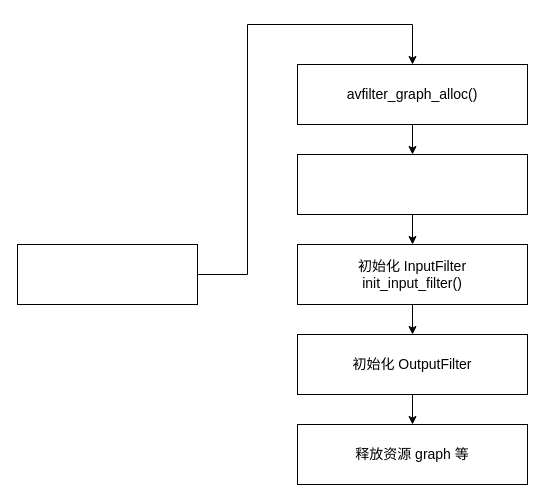
The diagram is 545 pixels wide and 502 high, and some of its shapes have lost their labels. Here are the shapes that lost their labels. From the top down, the centre of each, then its label:
At point 412,184: "avfilter_graph_parse2()".
At point 107,274: "init_complex_filter()".
